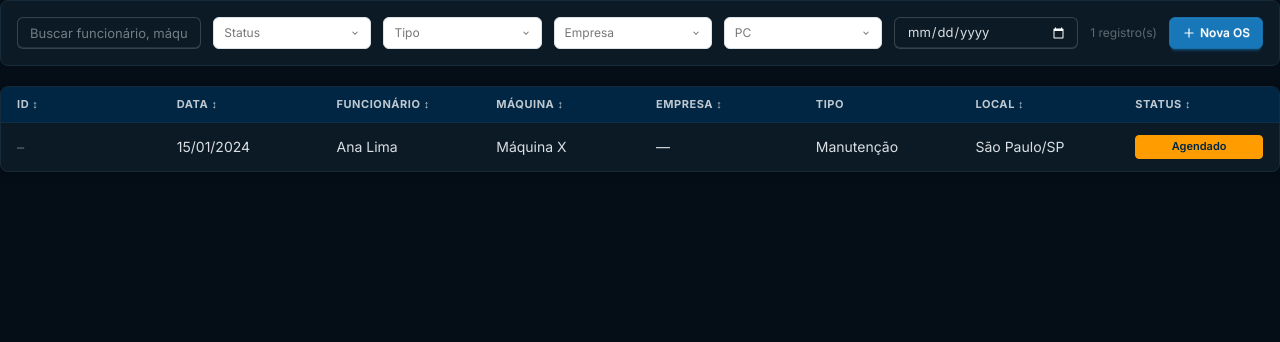
it: clicando novamente na row fecha o preview
Click the text "Ana Lima".
click(400, 147)  # box x1=320 y1=122 x2=480 y2=171
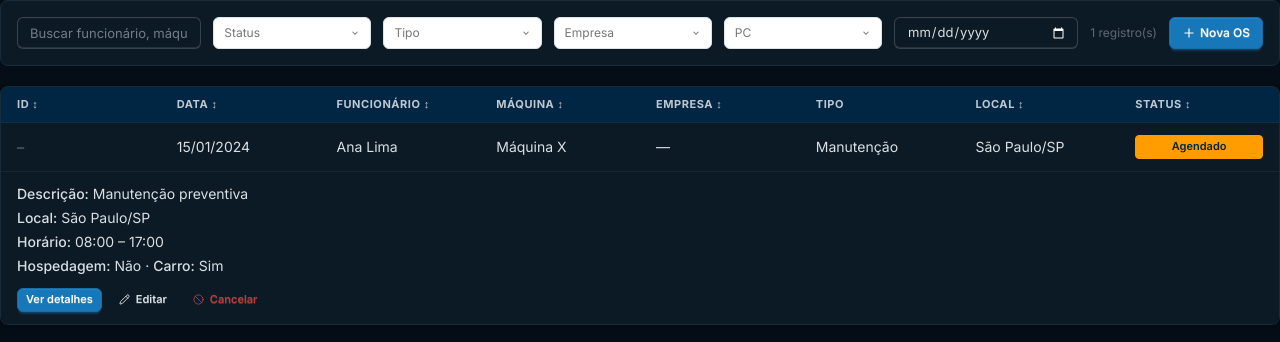
Expected: the element with test id "job-preview-job-1" is shown, x1=17 y1=185 x2=266 y2=312
Click the text "Ana Lima".
click(400, 147)  # box x1=320 y1=122 x2=480 y2=172
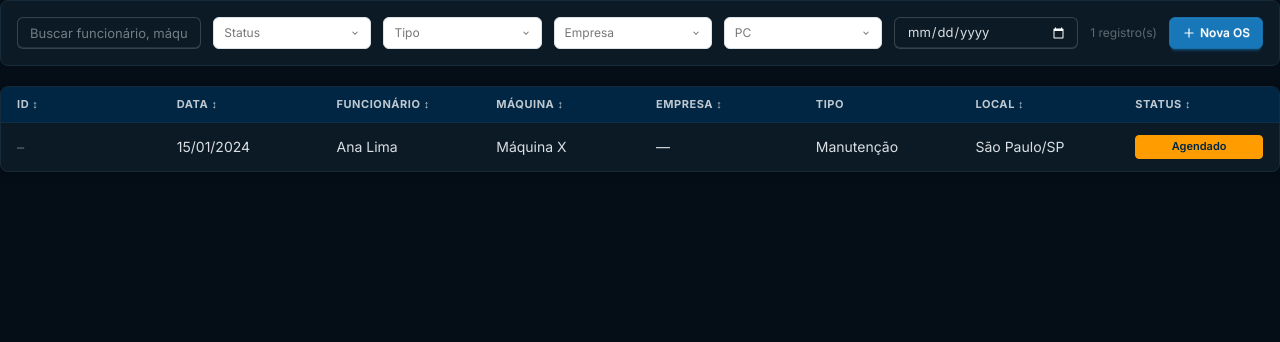
Expected: the element with test id "job-preview-job-1" is gone
